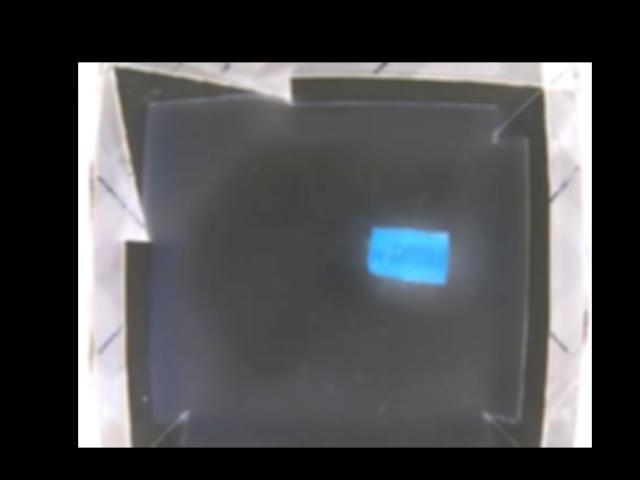Carrot: (367, 226, 452, 285)
